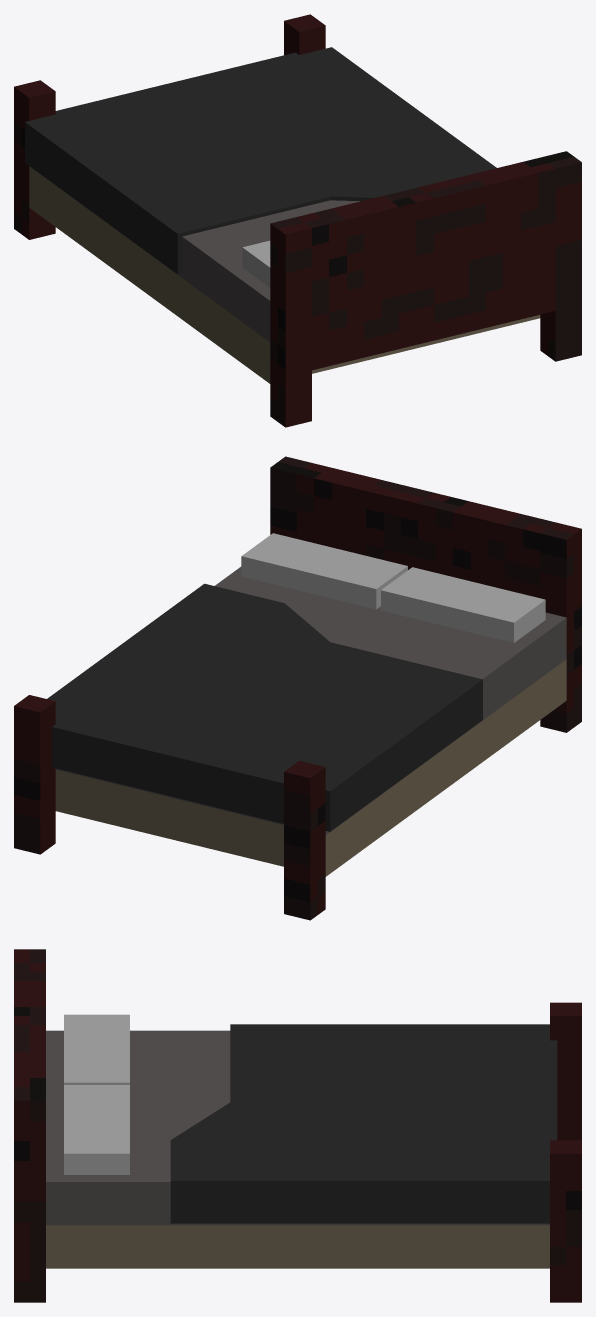
File: bed_double.gltf
The picture shows the model from 3 angles, top to bottom: view 1: azimuth 30°, elevation 25°; view 2: azimuth 150°, elevation 25°; view 3: azimuth 270°, elevation 25°; orthographic projection. The views are drawn at different scales.
Parts seen in each view (by area): view 1: cube (×5), blanket, box, mattress, pillow2; view 2: blanket, cube (×5), box, mattress, pillow2, pillow; view 3: blanket, box, mattress, cube (×4), pillow, pillow2.
Boxes of the visible parts, left/top/right/bottom form: cube (×5): left=14, top=14, right=581, bottom=427; blanket: left=25, top=47, right=496, bottom=274; box: left=29, top=166, right=540, bottom=383; mattress: left=29, top=166, right=359, bottom=342; pillow2: left=242, top=240, right=270, bottom=287; blanket: left=47, top=583, right=482, bottom=831; cube (×5): left=14, top=456, right=581, bottom=920; box: left=55, top=659, right=566, bottom=876; mattress: left=55, top=566, right=566, bottom=834; pillow2: left=381, top=567, right=545, bottom=642; pillow: left=241, top=533, right=407, bottom=609; blanket: left=170, top=1024, right=557, bottom=1223; box: left=46, top=1225, right=549, bottom=1268; mattress: left=46, top=1030, right=549, bottom=1225; cube (×4): left=14, top=963, right=581, bottom=1302; pillow: left=64, top=1085, right=129, bottom=1174; pillow2: left=64, top=1014, right=129, bottom=1084.
Size of the model in its own units: 0.5438 by 0.3266 by 0.8328.
5 materials, 5 textured.
